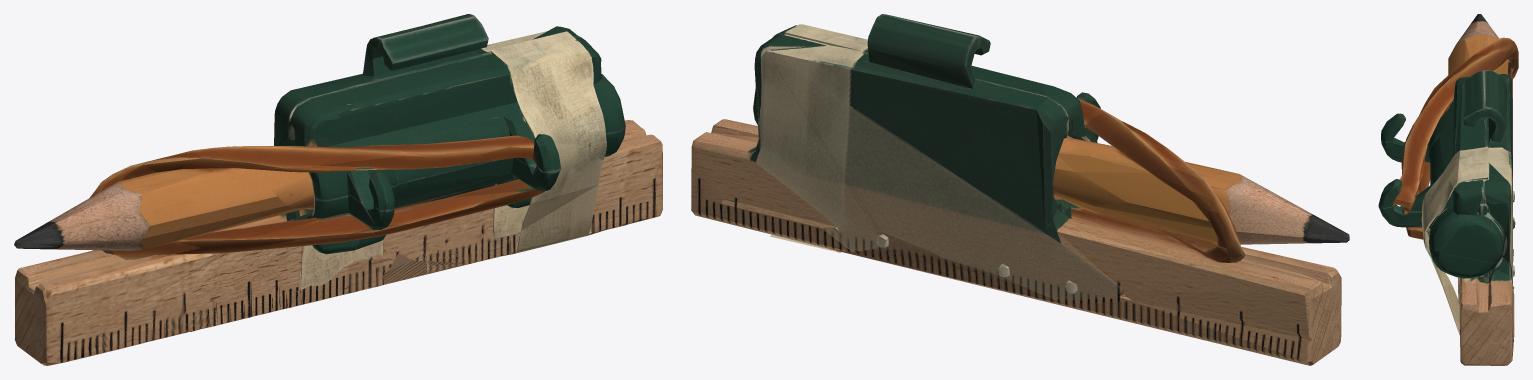
File: meshy.glb
3 renders of one model, left to right at view 1: azimuth 30°, elevation 25°; view 2: azimuth 150°, elevation 25°; view 3: azimuth 270°, elevation 25°, orthographic. The views are drawn at different scales.
Visible parts, largest first — view 1: Mesh_0; view 2: Mesh_0; view 3: Mesh_0.
Part boxes in pixels (left/top/right/bottom): Mesh_0: left=14, top=14, right=662, bottom=365; Mesh_0: left=691, top=14, right=1349, bottom=365; Mesh_0: left=1378, top=14, right=1518, bottom=365.
Size of the model in its own units: 1.9 by 0.6726 by 0.4436.
1 material, 1 textured.
